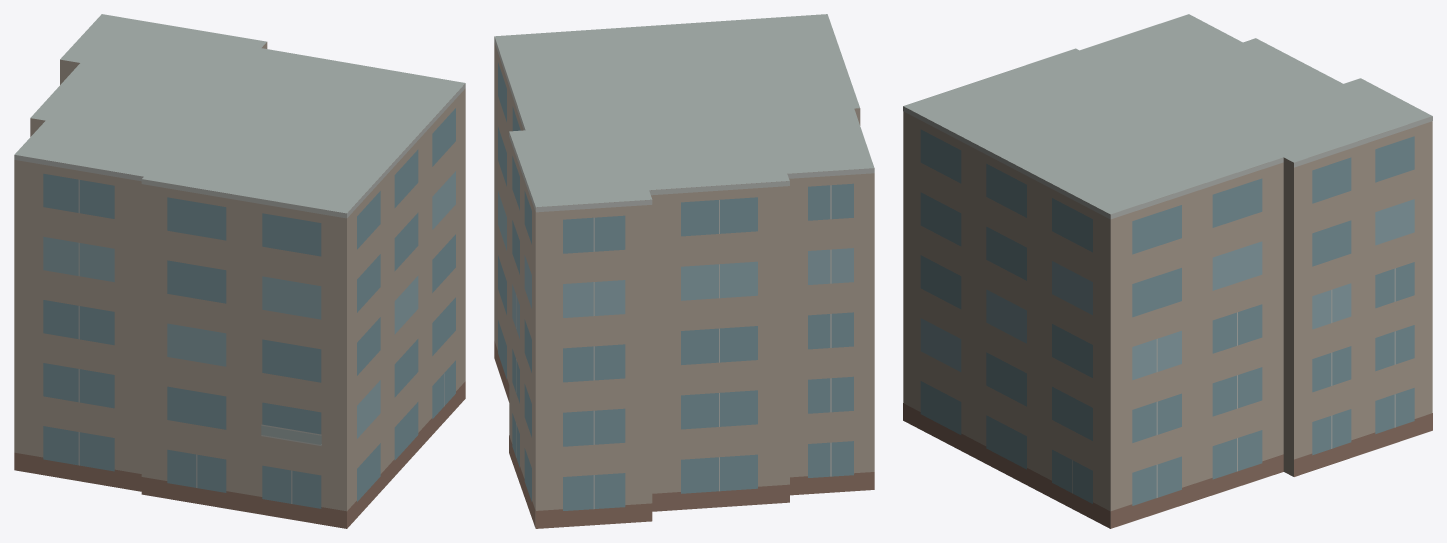
The model's file is survey-upis-32640867.glb.
3 views of the same model, side by side, from view 1: azimuth 30°, elevation 25°; view 2: azimuth 150°, elevation 25°; view 3: azimuth 270°, elevation 25° (orthographic). The views are drawn at different scales.
Parts seen in each view (by area): view 1: survey-upis-32640867.tmp; view 2: survey-upis-32640867.tmp; view 3: survey-upis-32640867.tmp.
Part boxes in pixels (x1,y1,x2,y2): survey-upis-32640867.tmp: [14, 14, 465, 528]; survey-upis-32640867.tmp: [494, 14, 874, 528]; survey-upis-32640867.tmp: [903, 14, 1432, 528].
Bounding box in the file's own units: 20.86 × 15.25 × 23.29.
